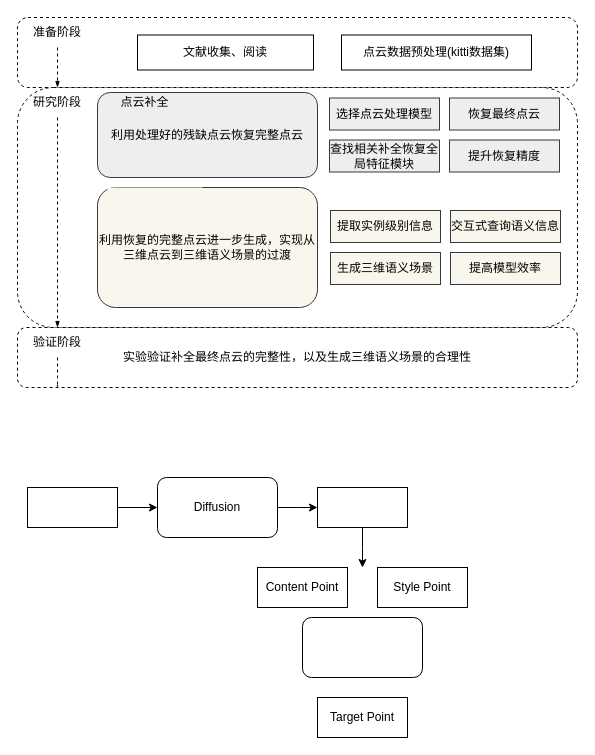
This 595x755 diagram has some shape labels left out. Here are the shapes that lost their labels. From the top down, the centre of each, then its label:
At pixel 154 202: "点云三维语义生成".
At pixel 72 507: "残缺点云数据".
At pixel 362 507: "补全数据".
At pixel 362 647: "Mamba Diffusion".
